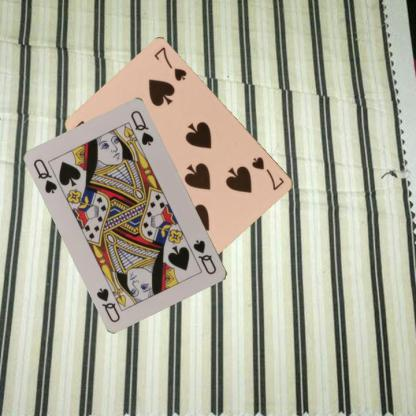7s: (250, 154, 286, 192)
Qs: (31, 156, 59, 195), (191, 237, 218, 276)
